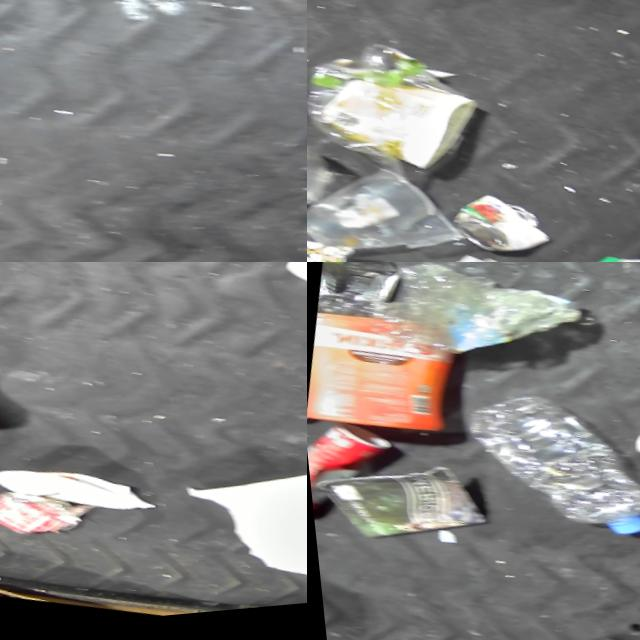can: (307, 436, 493, 565), (307, 408, 397, 535), (433, 189, 563, 262)
milk_jug: (260, 262, 307, 397)
non_white_jug: (307, 299, 462, 447)
plastic_bottle: (429, 375, 640, 561), (344, 262, 587, 387)
